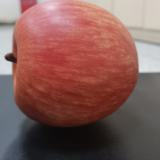apple: (6, 1, 140, 127)
